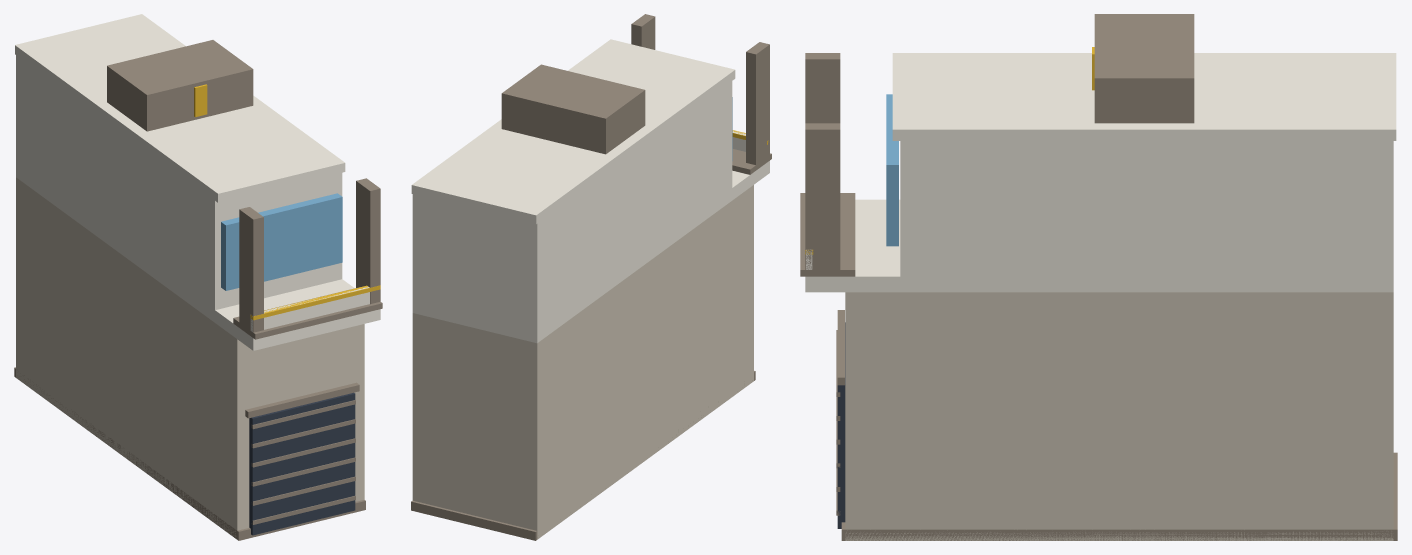
Rendered from pitClubTower.glb.
3 views of the same model, side by side, from view 1: azimuth 30°, elevation 25°; view 2: azimuth 150°, elevation 25°; view 3: azimuth 270°, elevation 25° (orthographic). The views are drawn at different scales.
Parts seen in each view (by area): view 1: pitClubTower_concrete, pitClubTower_white, pitClubTower_concreteDark, pitClubTower_steelDark, pitClubTower_glass, pitClubTower_yellow; view 2: pitClubTower_concrete, pitClubTower_white, pitClubTower_concreteDark; view 3: pitClubTower_concrete, pitClubTower_white, pitClubTower_concreteDark, pitClubTower_glass, pitClubTower_steelDark.
Boxes of the visible parts, x1,y1,x2,y2 form: pitClubTower_concrete: (16,177,364,539); pitClubTower_white: (15,14,380,350); pitClubTower_concreteDark: (14,40,382,540); pitClubTower_steelDark: (249,392,355,535); pitClubTower_glass: (221,193,342,290); pitClubTower_yellow: (194,84,380,320); pitClubTower_concrete: (412,185,753,539); pitClubTower_white: (411,39,769,343); pitClubTower_concreteDark: (411,14,771,540); pitClubTower_concrete: (845,292,1393,540); pitClubTower_white: (805,53,1396,292); pitClubTower_concreteDark: (800,14,1397,540); pitClubTower_glass: (886,94,898,246); pitClubTower_steelDark: (837,322,845,528).
Bounding box in the file's own units: 7.3 × 20.2 × 23.95.
